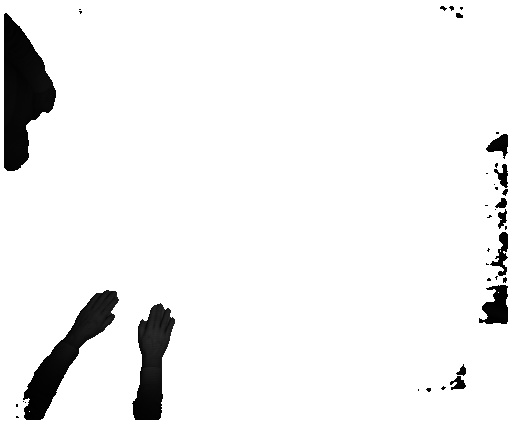hand: (70, 288, 119, 339), (136, 296, 175, 359)
